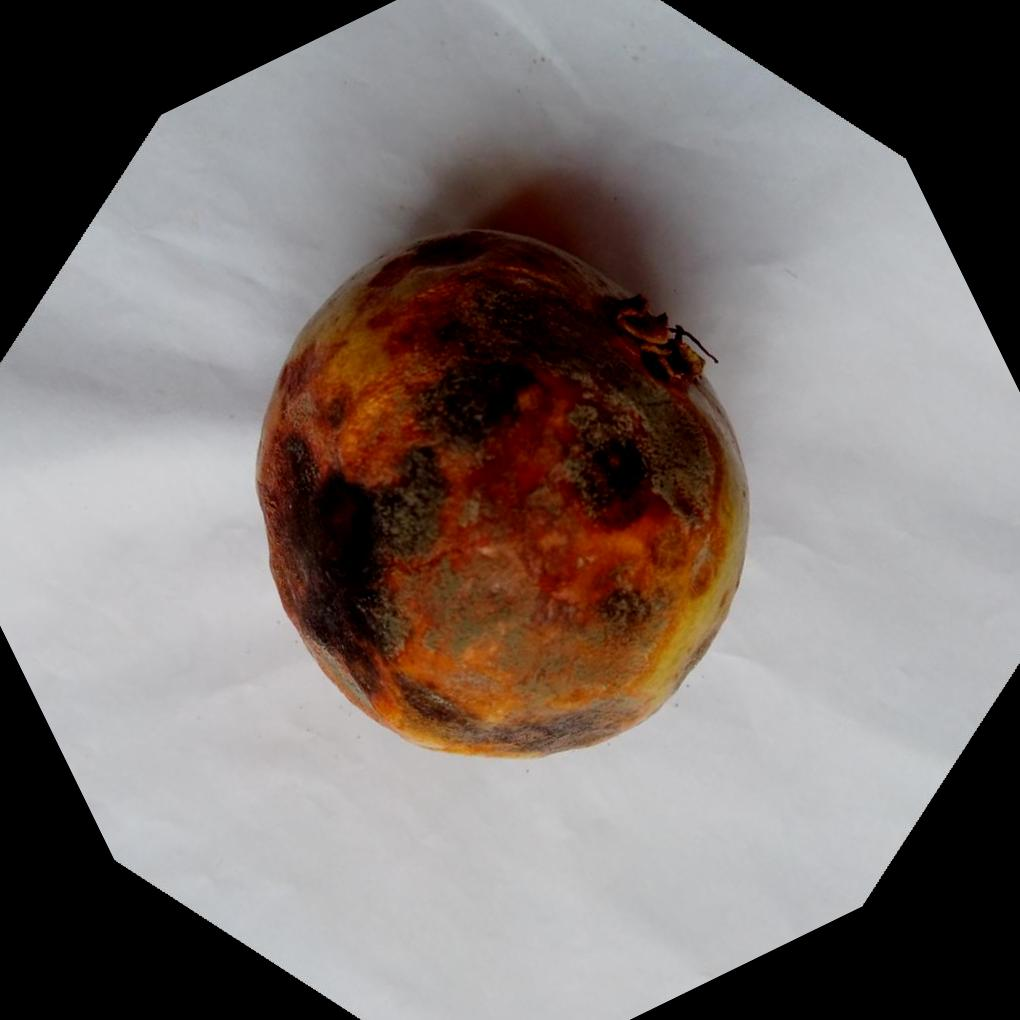FreshOrange: (251, 222, 750, 758)
